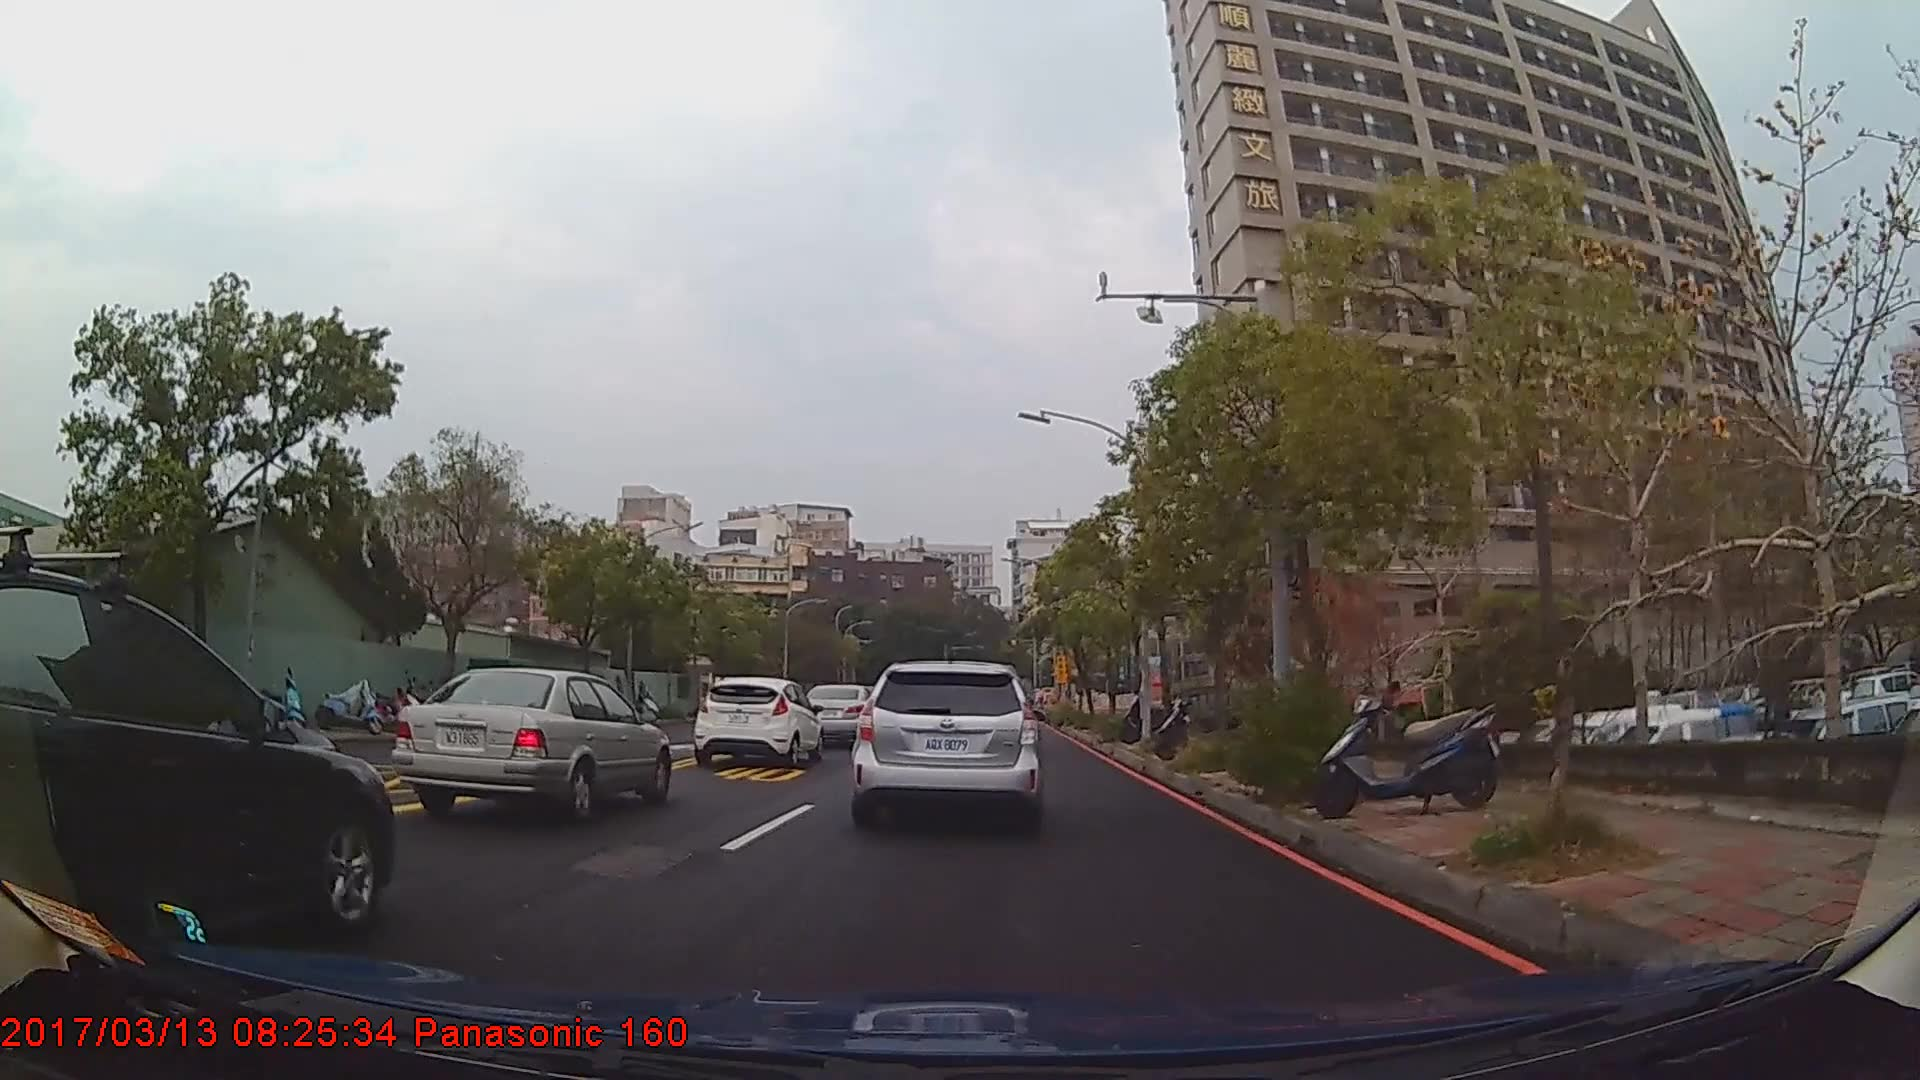vehicle: (0, 562, 394, 968), (390, 666, 671, 822), (848, 659, 1038, 827), (692, 675, 823, 767), (800, 683, 878, 745)
